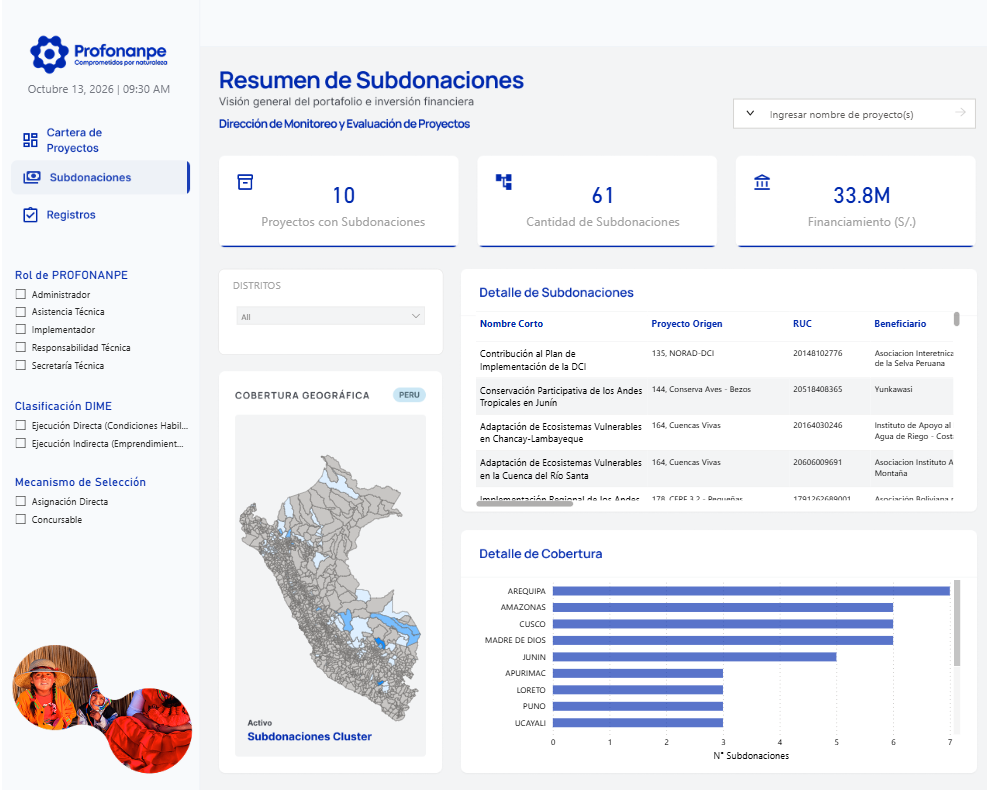

Layout of this report page (visuals, bound fields, positions):
{"tool":"powerbi","page":{"name":"Subdonaciones","canvas":[1280,1024],"ordinal":3},"visuals":[{"type":"textSlicer","fields":{"Values":["Fact_Proyectos.Nombre corto"]},"box":[252.9,12.9,291.4,48.6],"z":0},{"type":"cardVisual","fields":{"Data":["_Measure.Fecha Actualizacion"]},"box":[1050,141.4,212.9,64.3],"z":1000},{"type":"pageNavigator","box":[11.9,161.2,228.1,43.8],"z":2000},{"type":"shapeMap","fields":{"Category":["Dim_Ubicacion.Distrito"],"Series":["Dim_Ubicacion.Ubigeo"],"Value":["_Measure.Subdonaciones por Ubicación"]},"box":[288.3,530.2,269.4,456.4],"z":4000},{"type":"pivotTable","fields":{"Rows":["Dim_Subdonacion.CodigoSubdonacion","Dim_Subdonacion.Nombre corto"],"Values":["Min(Dim_Subdonacion.Proyecto Nivel 0 relacionado (alias))","Min(Dim_Subdonacion.Fecha de inicio)","Min(Dim_Subdonacion.FechaMax)","Min(Dim_Subdonacion.Tipo  de Intervención)","Min(Dim_Subdonacion.RUC)","Min(Dim_Subdonacion.Razón Social)","Min(Dim_Subdonacion.Monto Subdonación (PEN))","Min(Dim_Subdonacion.Fuente de financiamiento)","Min(Dim_Subdonacion.CodigoSubNivel1)"]},"box":[605.7,396.4,634.9,262.5],"z":5000},{"type":"card","fields":{"Values":["_Measure.Proyectos con Subdonaciones"]},"box":[322.6,205.9,235.7,108.6],"z":6000},{"type":"card","fields":{"Values":["_Measure.Subdonaciones"]},"box":[657.2,205.9,235.7,108.6],"z":7000},{"type":"slicer","title":"DISTRITOS","fields":{"Values":["Dim_Ubicacion.Departamento","Dim_Ubicacion.Provincia","Dim_Ubicacion.Distrito"]},"box":[278.7,347.3,290,111.3],"z":8000},{"type":"clusteredBarChart","fields":{"Category":["Dim_Ubicacion.Departamento","Dim_Ubicacion.Provincia","Dim_Ubicacion.Distrito"],"Y":["_Measure.Subdonaciones por Ubicación"]},"box":[612.6,734.4,628,252.2],"z":9000},{"type":"card","fields":{"Values":["_Measure.Monto Soles"]},"box":[990,205.9,238.6,108.6],"z":10000},{"type":"pageNavigator","box":[12,205.9,228.2,42.9],"z":12000},{"type":"listSlicer","fields":{"Values":["Dim_LineaNegocio.Línea de Negocio"]},"box":[12,344.6,253.9,161.3],"z":13000},{"type":"listSlicer","fields":{"Values":["Dim_EjeTematico.Eje Temático"]},"box":[10.7,524.9,253.9,147.6],"z":14000},{"type":"listSlicer","fields":{"Values":["Dim_Subdonacion.Ámbito de intervención"]},"box":[12,693.2,253.9,104.7],"z":15000},{"type":"actionButton","box":[990,205.9,238.5,108.1],"z":15001}]}

Visuals, with their boxes on the page's 1280x1024 design canvas (x1, y1, x2, y2). These are canvas units, not pixel positions in the 987x790 screenshot, which may show the page scaled, cropped or inside an application window:
textSlicer - Fact_Proyectos.Nombre corto: 253:13:544:62
cardVisual - _Measure.Fecha Actualizacion: 1050:141:1263:206
pageNavigator: 12:161:240:205
shapeMap - Dim_Ubicacion.Distrito x Dim_Ubicacion.Ubigeo: 288:530:558:987
pivotTable - Dim_Subdonacion.CodigoSubdonacion x Dim_Subdonacion.Nombre corto: 606:396:1241:659
card - _Measure.Proyectos con Subdonaciones: 323:206:558:314
card - _Measure.Subdonaciones: 657:206:893:314
"DISTRITOS" slicer: 279:347:569:459
clusteredBarChart - Dim_Ubicacion.Departamento x Dim_Ubicacion.Provincia: 613:734:1241:987
card - _Measure.Monto Soles: 990:206:1229:314
pageNavigator: 12:206:240:249
listSlicer - Dim_LineaNegocio.Línea de Negocio: 12:345:266:506
listSlicer - Dim_EjeTematico.Eje Temático: 11:525:265:672
listSlicer - Dim_Subdonacion.Ámbito de intervención: 12:693:266:798
actionButton: 990:206:1228:314
